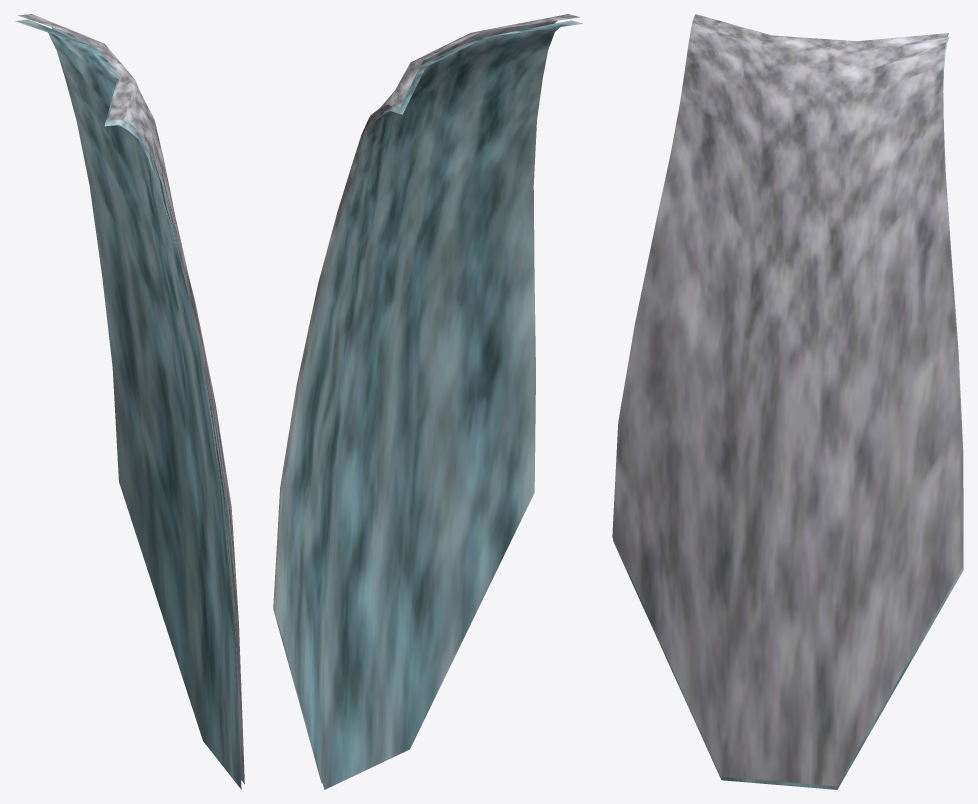
File: TROLLHOLE02_WATERFALLIN.fbx
3 views of the same model, side by side, from view 1: azimuth 30°, elevation 25°; view 2: azimuth 150°, elevation 25°; view 3: azimuth 270°, elevation 25° (orthographic). The views are drawn at different scales.
Parts seen in each view (by area): view 1: TROLLHOLE02_WATERFALLIN; view 2: TROLLHOLE02_WATERFALLIN; view 3: TROLLHOLE02_WATERFALLIN.
Boxes of the visible parts, x1,y1,x2,y2 form: TROLLHOLE02_WATERFALLIN: (14, 14, 244, 789); TROLLHOLE02_WATERFALLIN: (273, 14, 582, 789); TROLLHOLE02_WATERFALLIN: (612, 14, 963, 789).
Bounding box in the file's own units: 30744 × 121183 × 55108.
2 materials, 2 textured.
